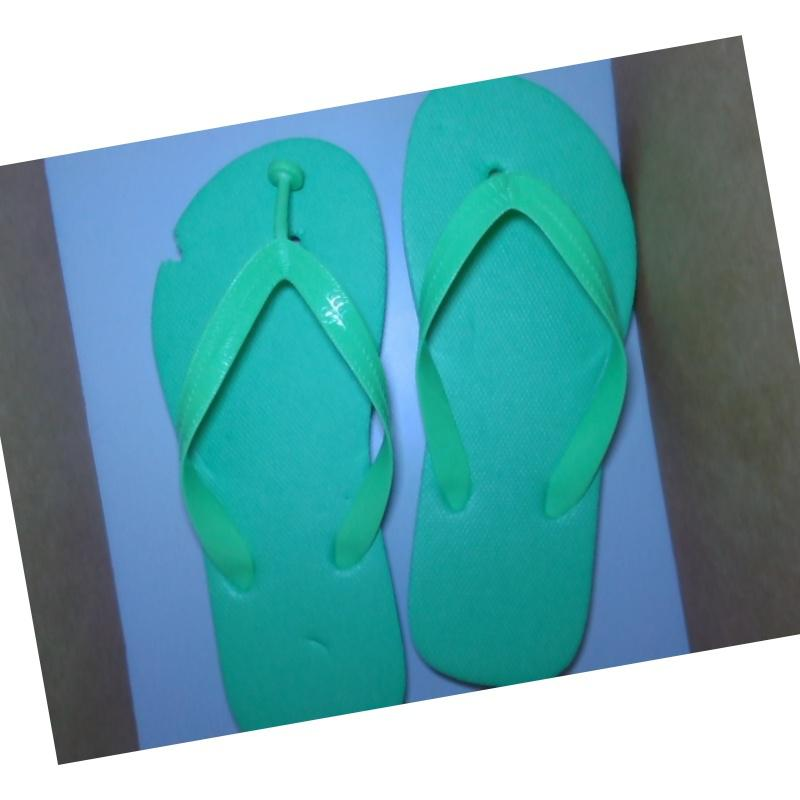chipped: (149, 219, 198, 280)
detached: (261, 148, 313, 214)
